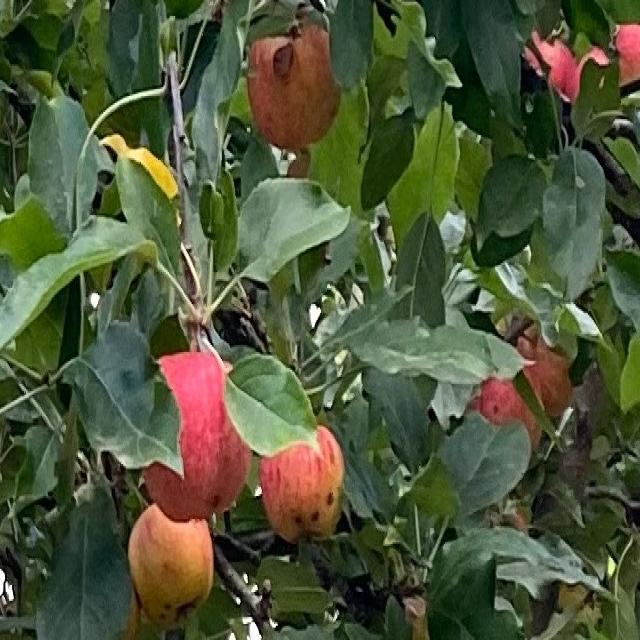100-_ripeness: (144, 352, 253, 521), (247, 19, 339, 148), (130, 503, 214, 628), (259, 423, 346, 539), (471, 370, 544, 455), (519, 323, 571, 412), (523, 32, 579, 103)
